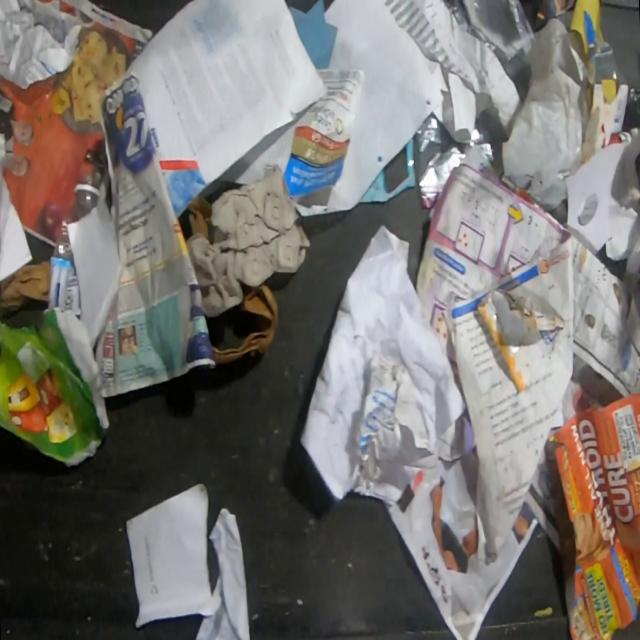cardboard: (0, 307, 111, 469), (566, 125, 640, 281), (476, 287, 569, 395), (210, 282, 282, 367), (186, 194, 213, 244)
rigid_plastic: (46, 170, 104, 313), (586, 39, 626, 85)
soft_plastic: (500, 16, 584, 211), (412, 111, 498, 210), (450, 0, 536, 79)
